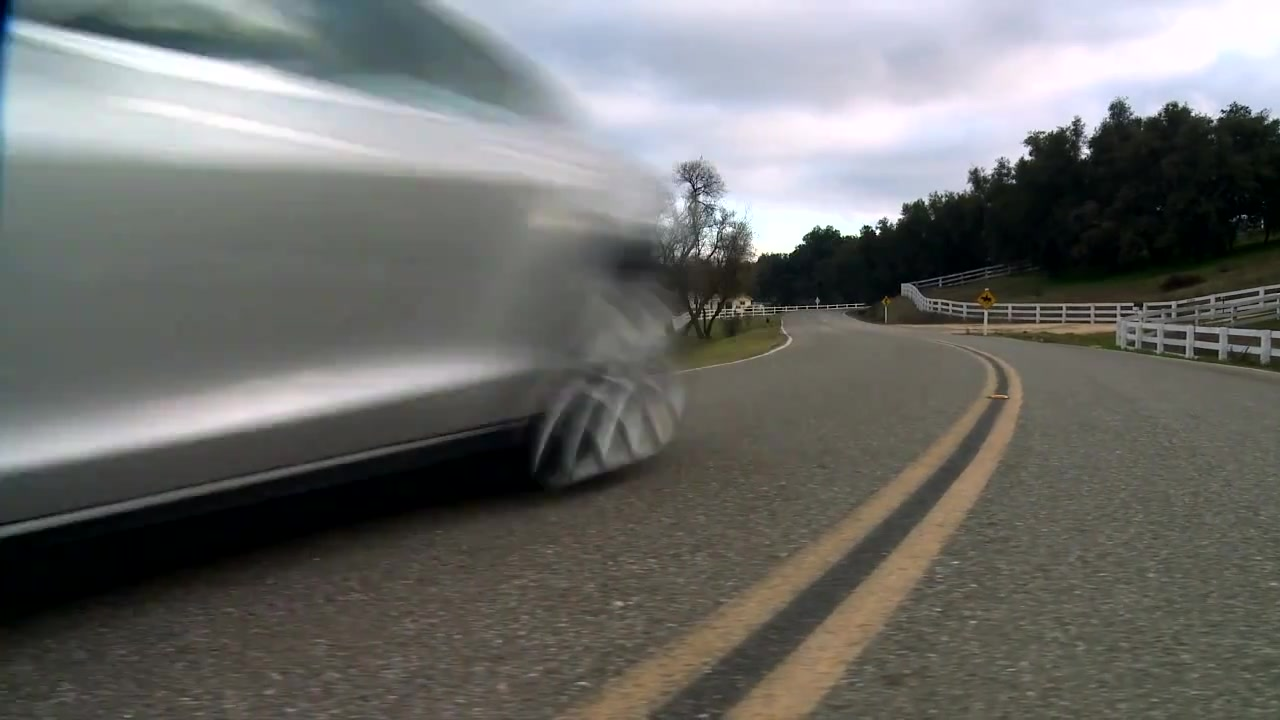car: (7, 1, 686, 596)
